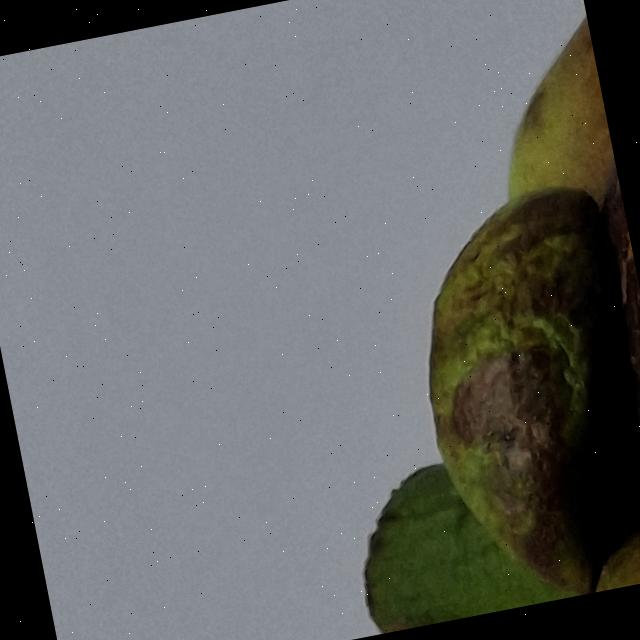mangosteen: (219, 0, 640, 640)
